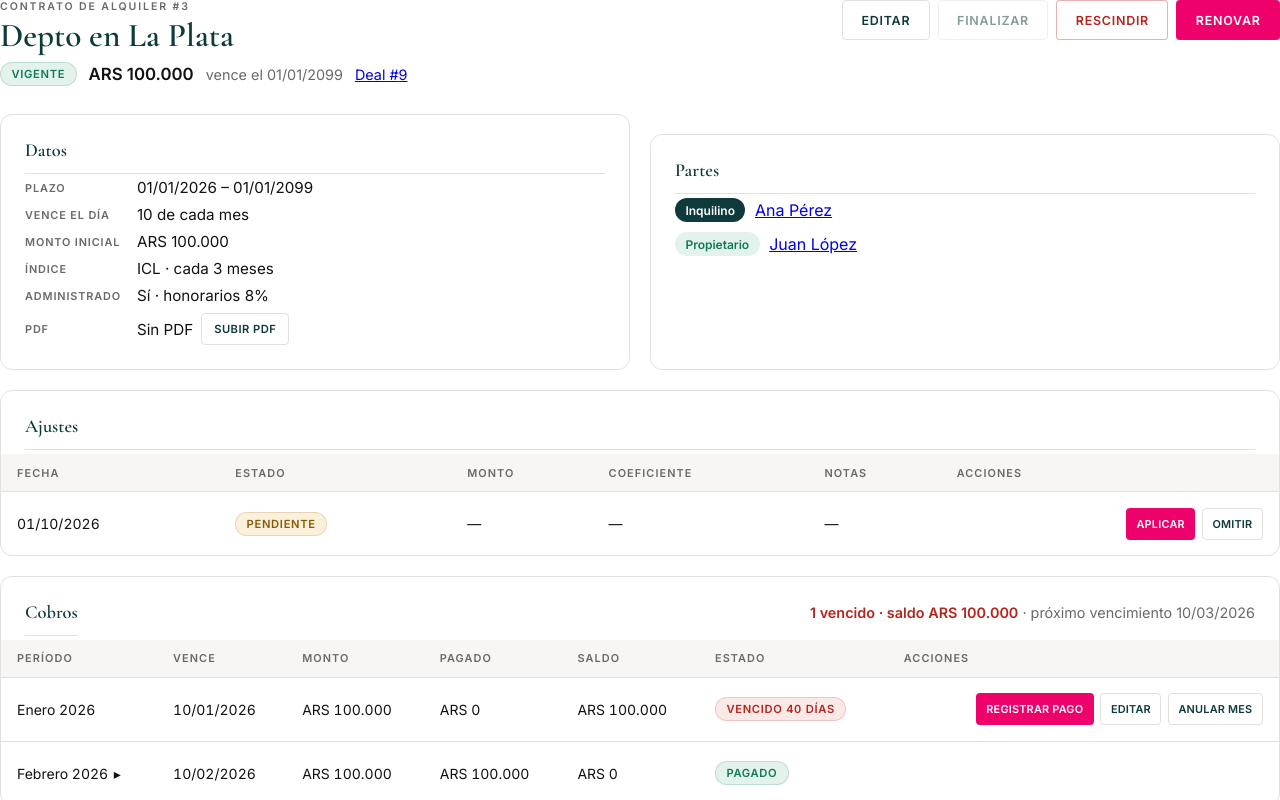
Test case: registrar un pago precarga el punitorio, manda el payload y reemplaza el cobro
Click the button "Registrar pago" at coordinates (1035, 709), box [976, 693, 1094, 725]
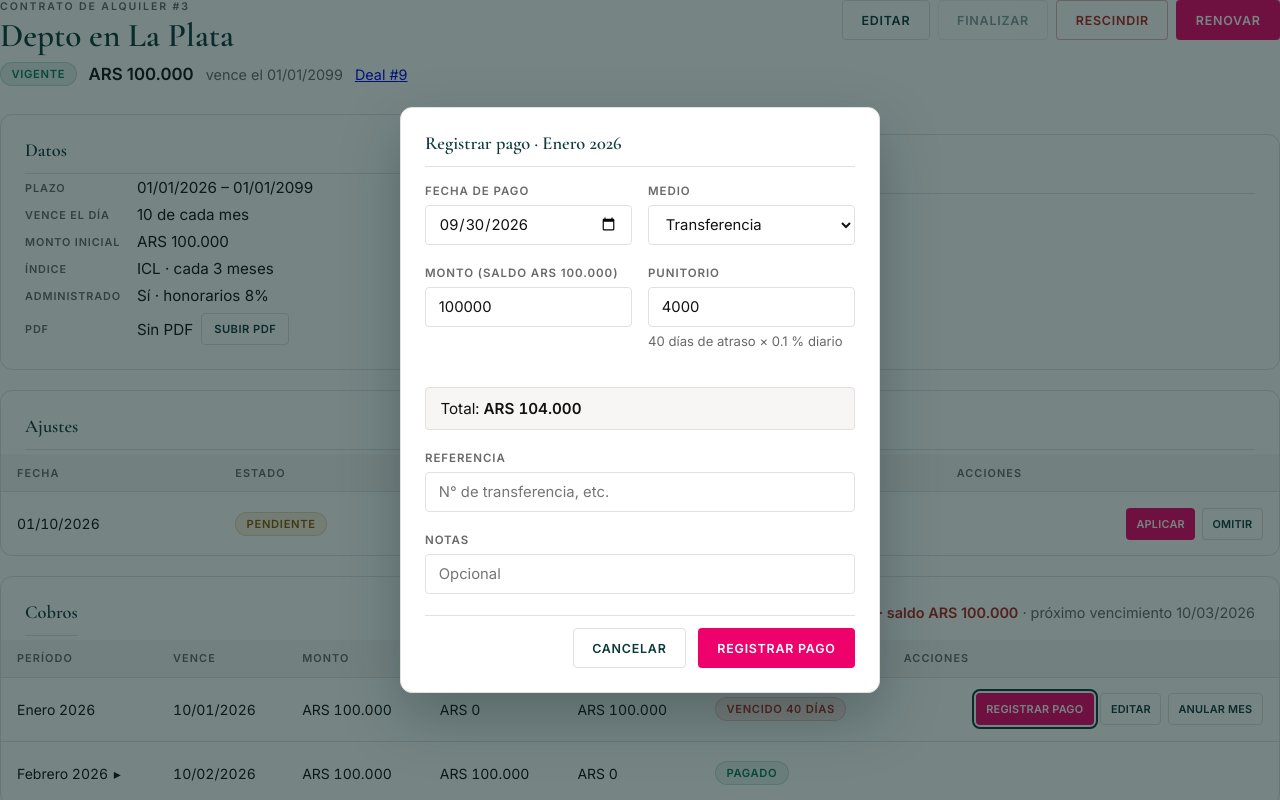
Expected: the number field labelled "Punitorio" holds "4000", [648, 286, 855, 326]
Expected: the text "40 días de atraso × 0.1 % diario" is shown, [648, 333, 855, 349]
Expected: the text "ARS 104.000" is shown, [484, 399, 582, 418]
Click the button "Registrar pago" at coordinates (776, 648), box [698, 628, 855, 668]
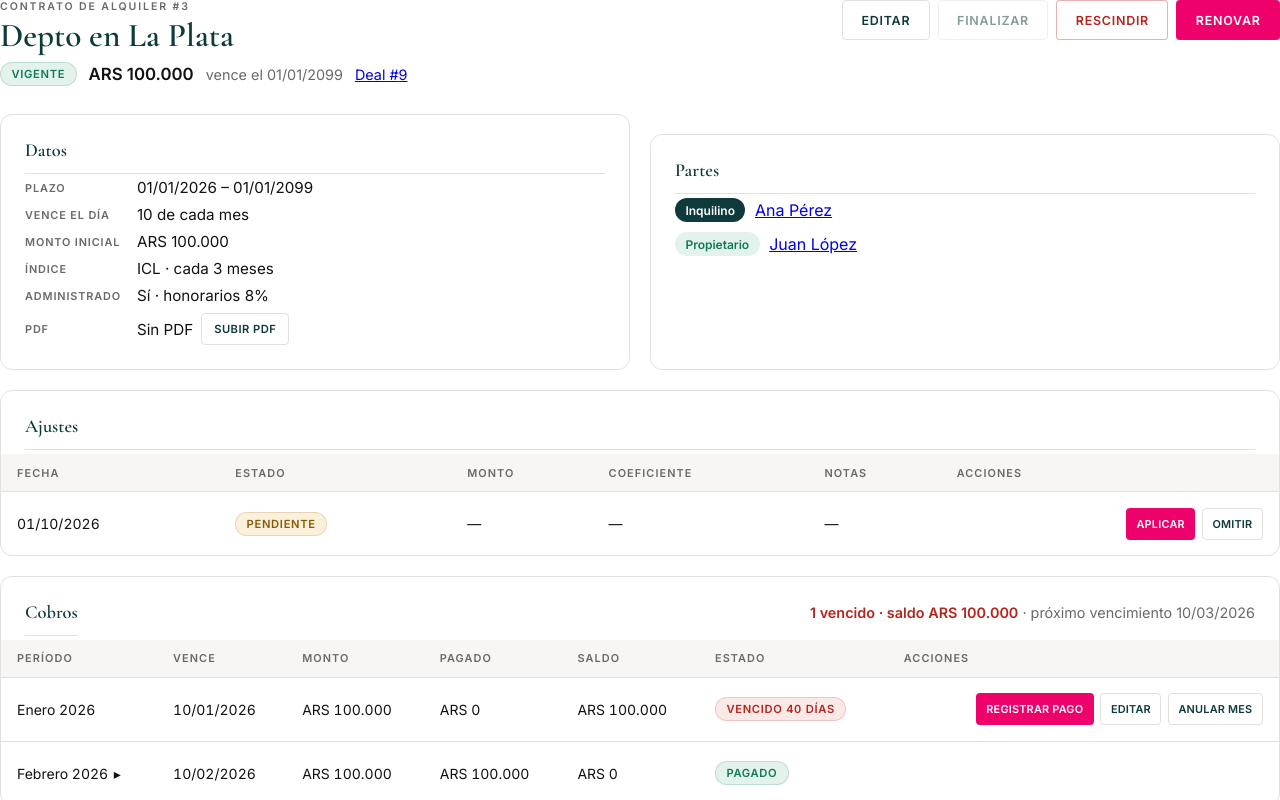
Expected: the dialog is gone
